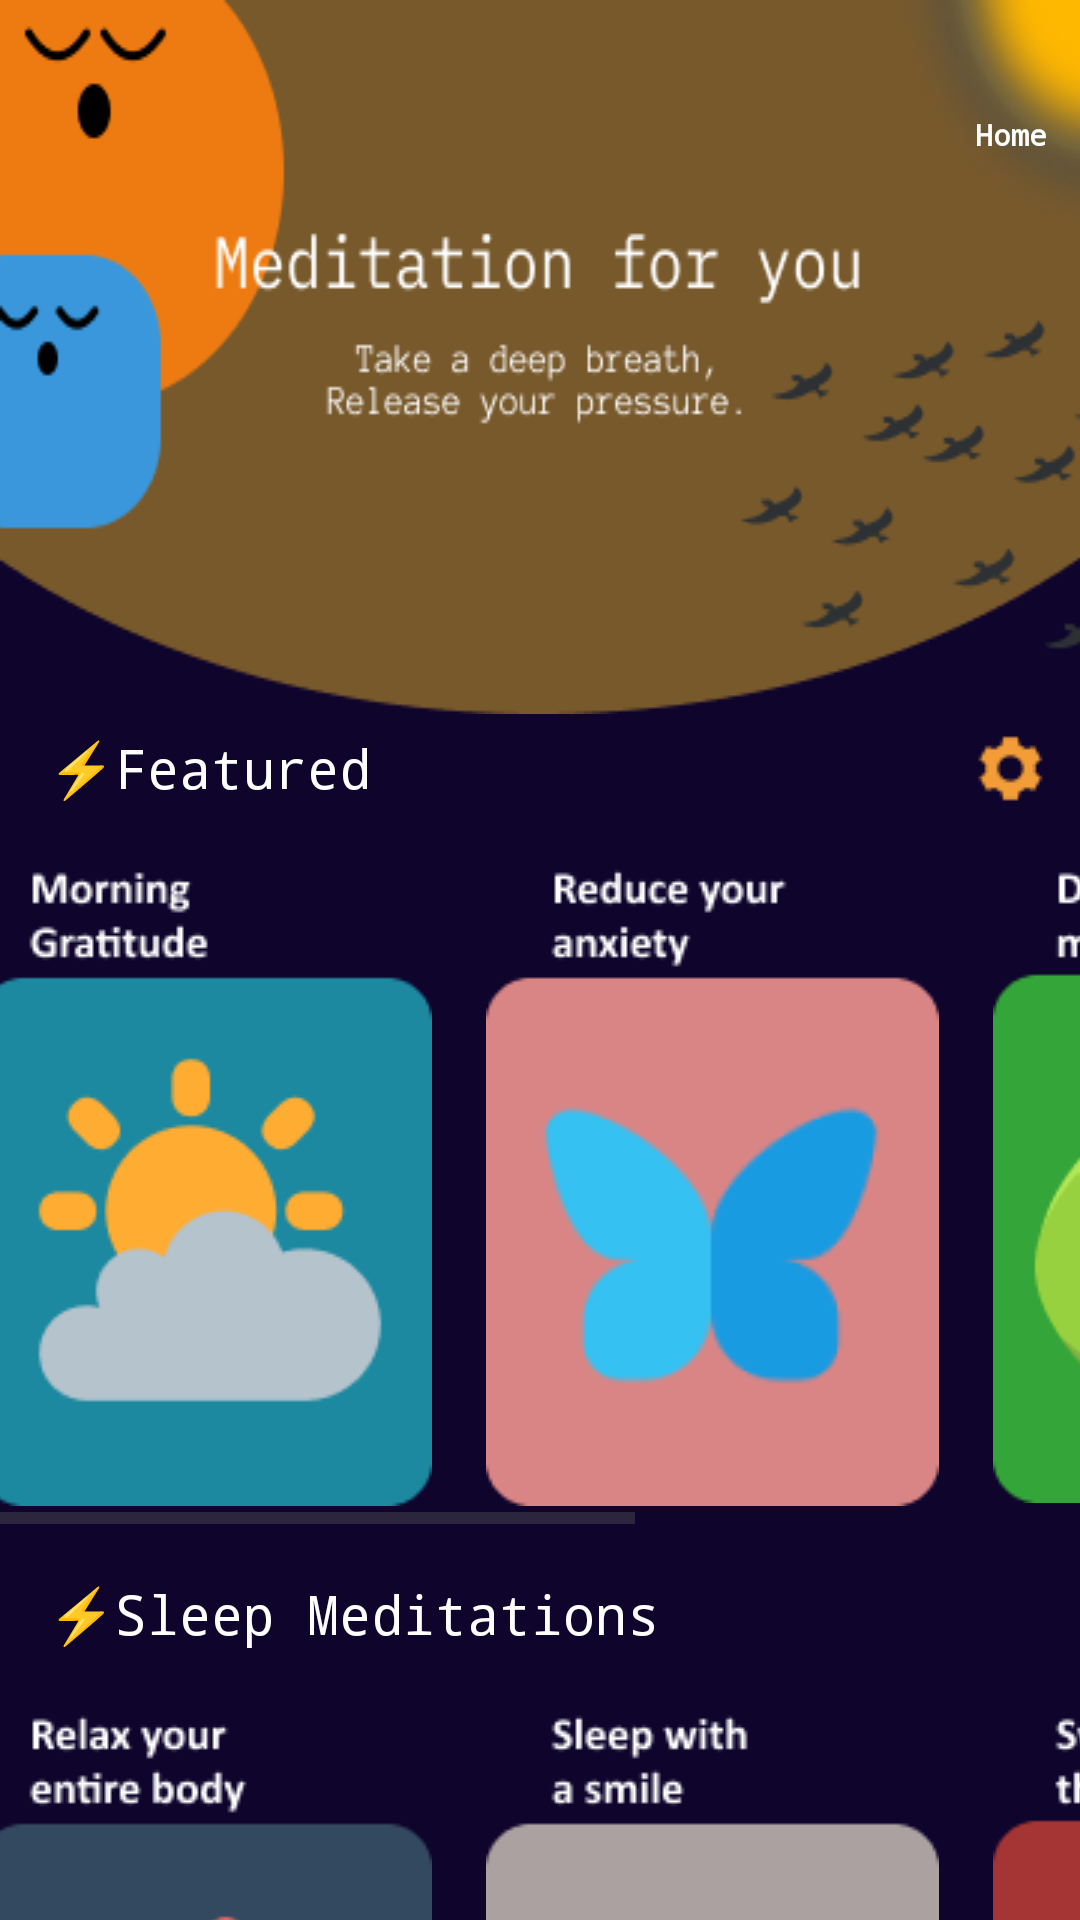

Named icons in this screenshot (1080px×1920px) and their bounding boxes, Rect(x1, y1, x2, y2):
settings: Rect(978, 736, 1043, 801)
